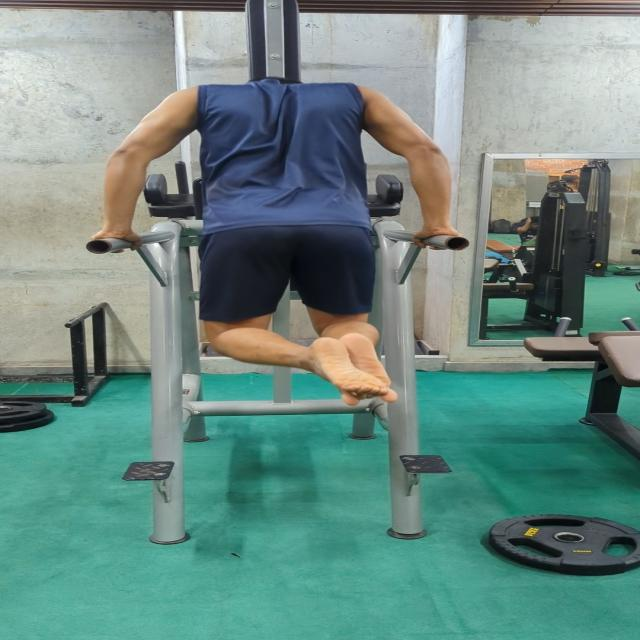Normal_Dips: (92, 70, 474, 413)
